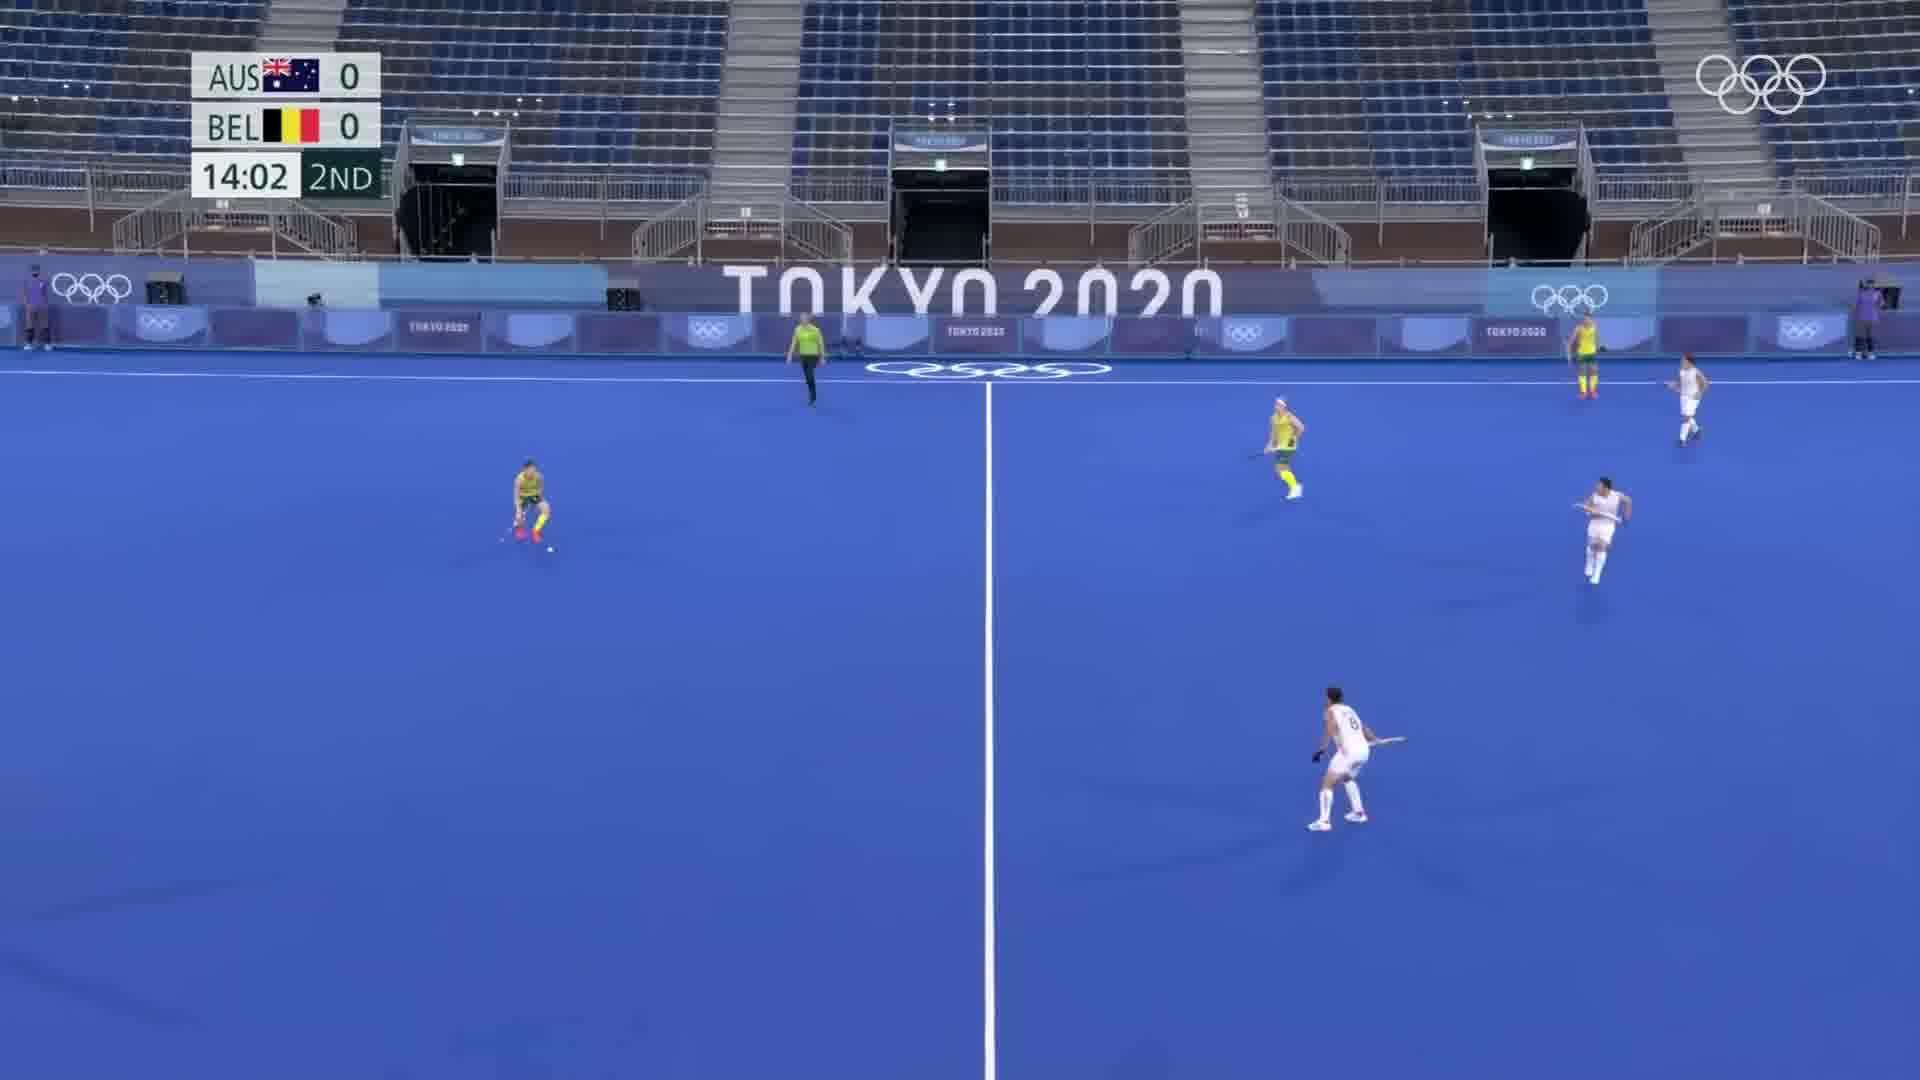ball: (542, 537, 563, 560)
